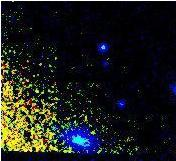star: (80, 117, 110, 147)
